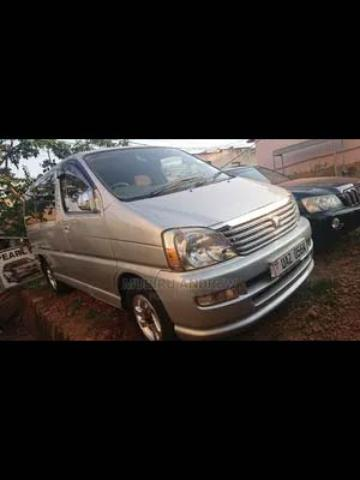van: (18, 148, 313, 336)
